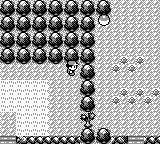main: (66, 61, 79, 75)
mo: (80, 112, 96, 127)
no-caminable: (0, 0, 111, 112), (80, 128, 111, 143)
poke-ball: (98, 14, 111, 26)
salto: (17, 136, 79, 143), (145, 136, 159, 143), (113, 137, 127, 143)
